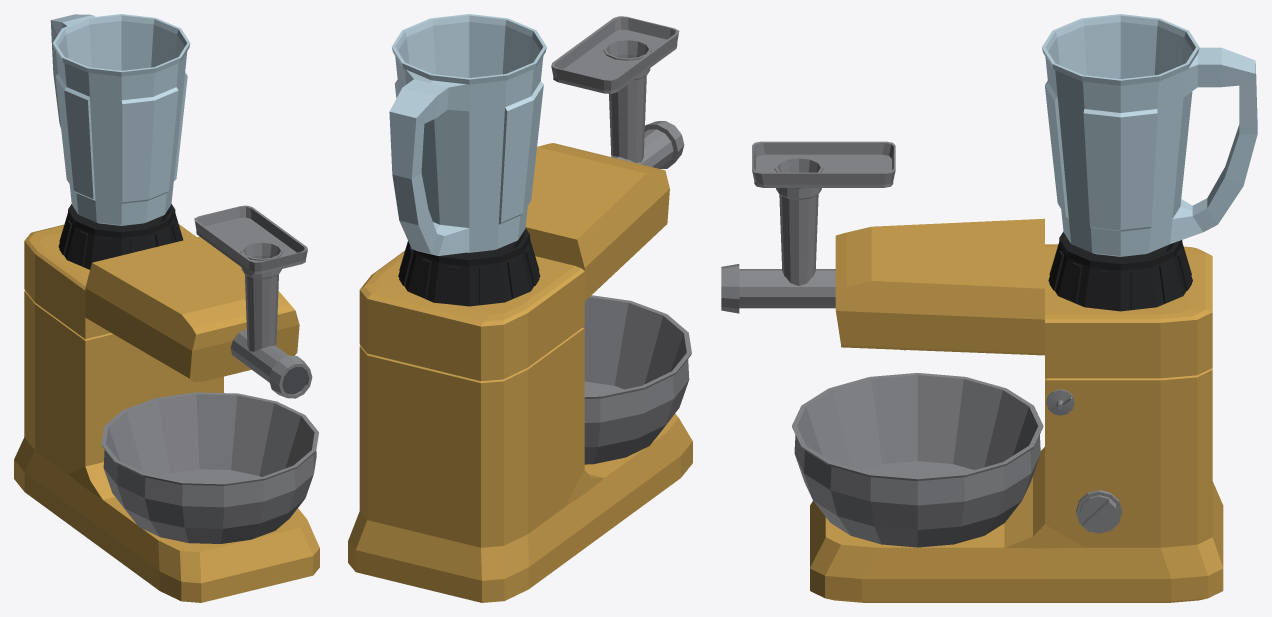
Rendered from foodprocessor_01_D.gltf.
The picture shows the model from 3 angles, left to right: view 1: azimuth 30°, elevation 25°; view 2: azimuth 150°, elevation 25°; view 3: azimuth 270°, elevation 25°; orthographic projection. The views are drawn at different scales.
Visible parts, largest first — view 1: foodprocessor_01_D, Plateforfoodprocessor_01_D, blenderforfoodprocessor_01_D; view 2: foodprocessor_01_D, blenderforfoodprocessor_01_D, Plateforfoodprocessor_01_D; view 3: foodprocessor_01_D, blenderforfoodprocessor_01_D, Plateforfoodprocessor_01_D, Switchforfoodprocessor_02_D.
Boxes of the visible parts, x1,y1,x2,y2 form: foodprocessor_01_D: (14,204,319,602); Plateforfoodprocessor_01_D: (101,392,318,543); blenderforfoodprocessor_01_D: (50,14,190,225); foodprocessor_01_D: (348,16,692,602); blenderforfoodprocessor_01_D: (389,14,546,255); Plateforfoodprocessor_01_D: (583,295,691,464); foodprocessor_01_D: (721,141,1223,602); blenderforfoodprocessor_01_D: (1042,14,1257,256); Plateforfoodprocessor_01_D: (792,373,1043,547); Switchforfoodprocessor_02_D: (1076,490,1122,533).
Bounding box in the file's own units: 0.2179 × 0.4952 × 0.4639.
Materials: 1 (1 with a texture image).
